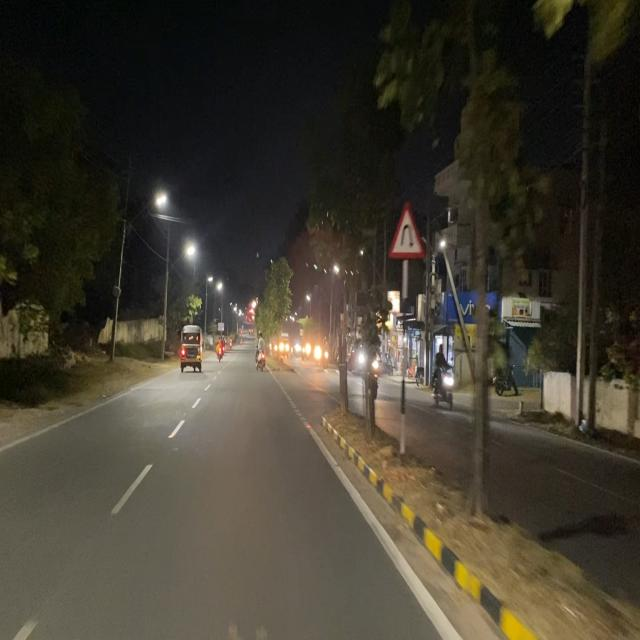bien_cam: (387, 197, 426, 260)
